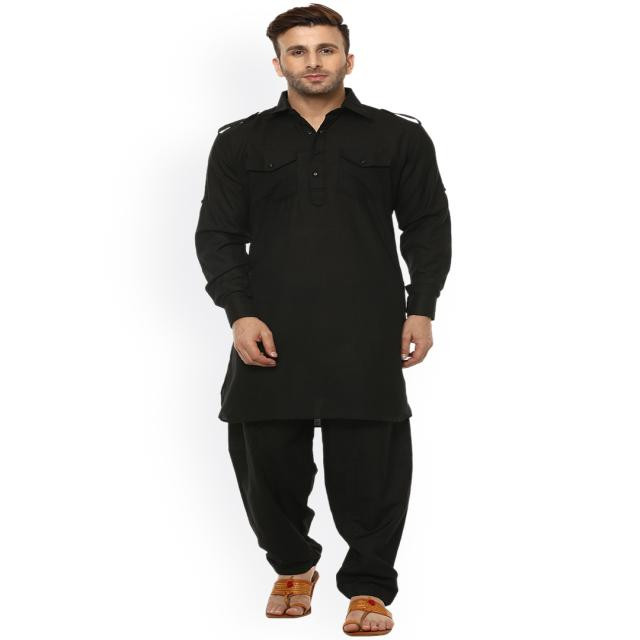human: (189, 2, 458, 640)
